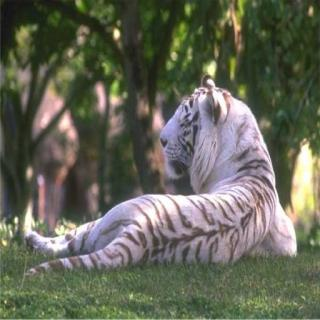Tiger: (17, 70, 304, 276)
